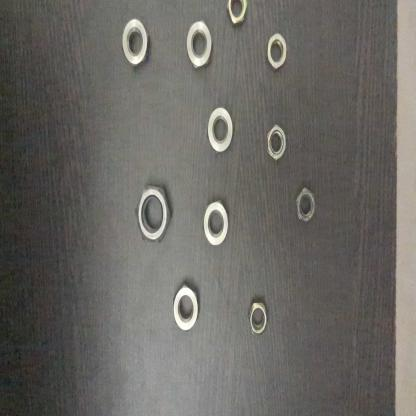NUTS: (132, 180, 175, 246), (117, 15, 153, 75), (168, 279, 206, 333), (198, 196, 233, 250), (205, 102, 236, 154), (289, 179, 318, 234), (183, 18, 214, 69), (247, 295, 271, 342), (264, 120, 286, 164), (266, 32, 289, 72), (224, 0, 251, 29)
